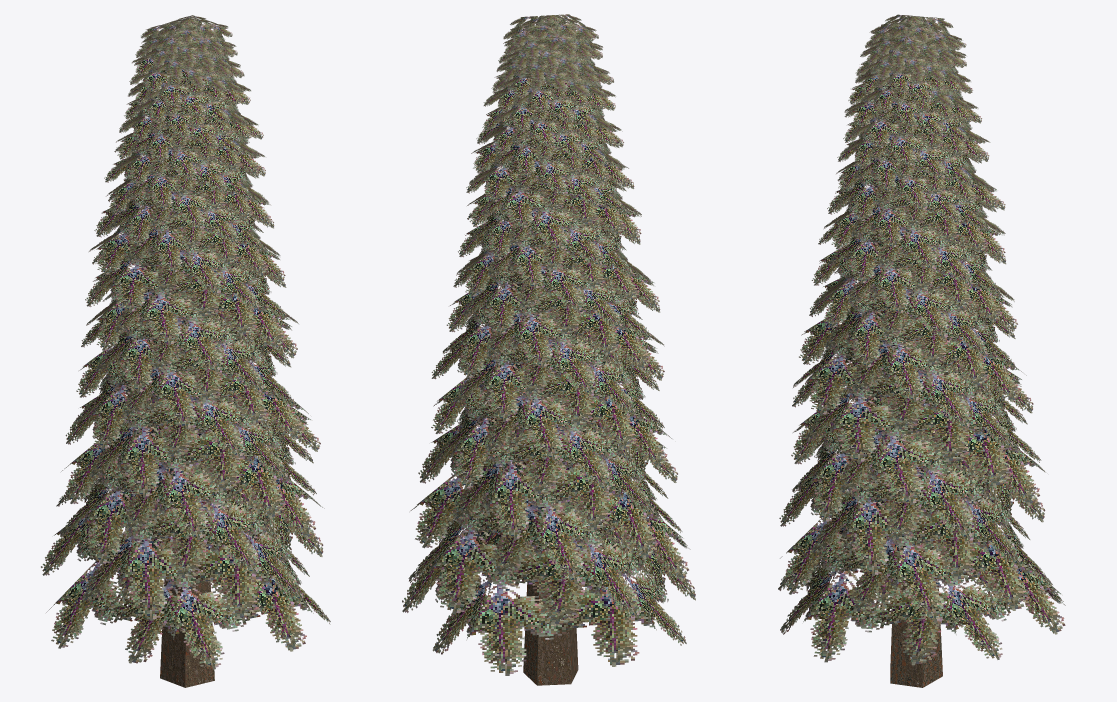
File: tree_1.glb
3 views of the same model, side by side, from view 1: azimuth 30°, elevation 25°; view 2: azimuth 150°, elevation 25°; view 3: azimuth 270°, elevation 25° (orthographic).
Visible parts, largest first — view 1: pine_tree; view 2: pine_tree; view 3: pine_tree.
Part boxes in pixels (x1=…): pine_tree: x1=41, y1=15, x2=330, y2=687; pine_tree: x1=402, y1=14, x2=695, y2=685; pine_tree: x1=778, y1=14, x2=1065, y2=687.
Size of the model in its own units: 5.91 by 12.48 by 6.07.
2 materials, 2 textured.
